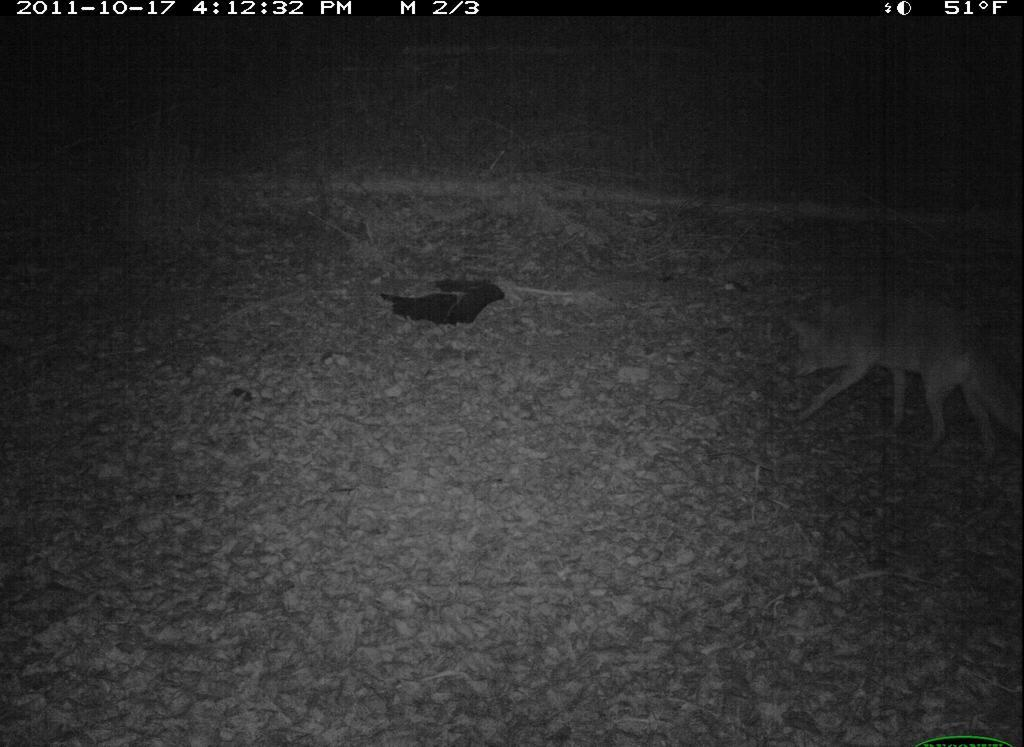coyote: (744, 290, 1021, 488)
